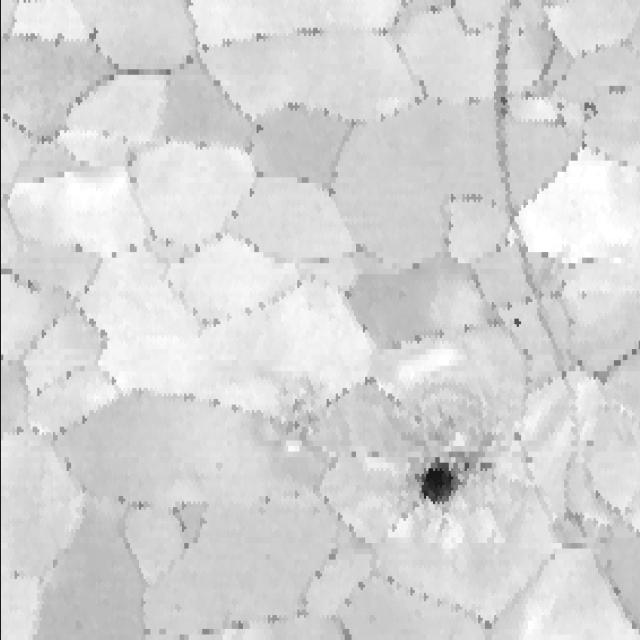good_void: (392, 448, 481, 538), (263, 378, 324, 454), (601, 70, 633, 106), (578, 96, 601, 128), (508, 310, 524, 331), (514, 22, 528, 45), (577, 287, 589, 302)
